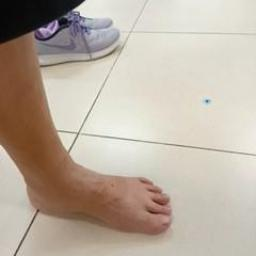Medial View -Left Foot-: (6, 140, 196, 244)
